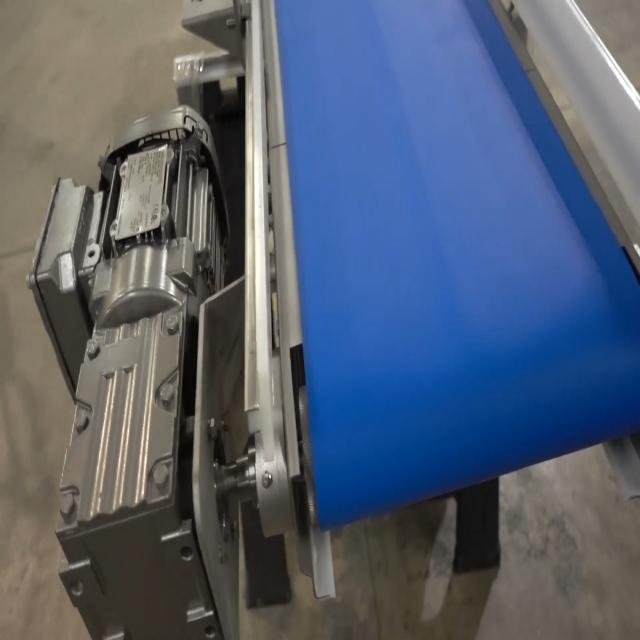Convoyeur: (235, 0, 640, 548)
